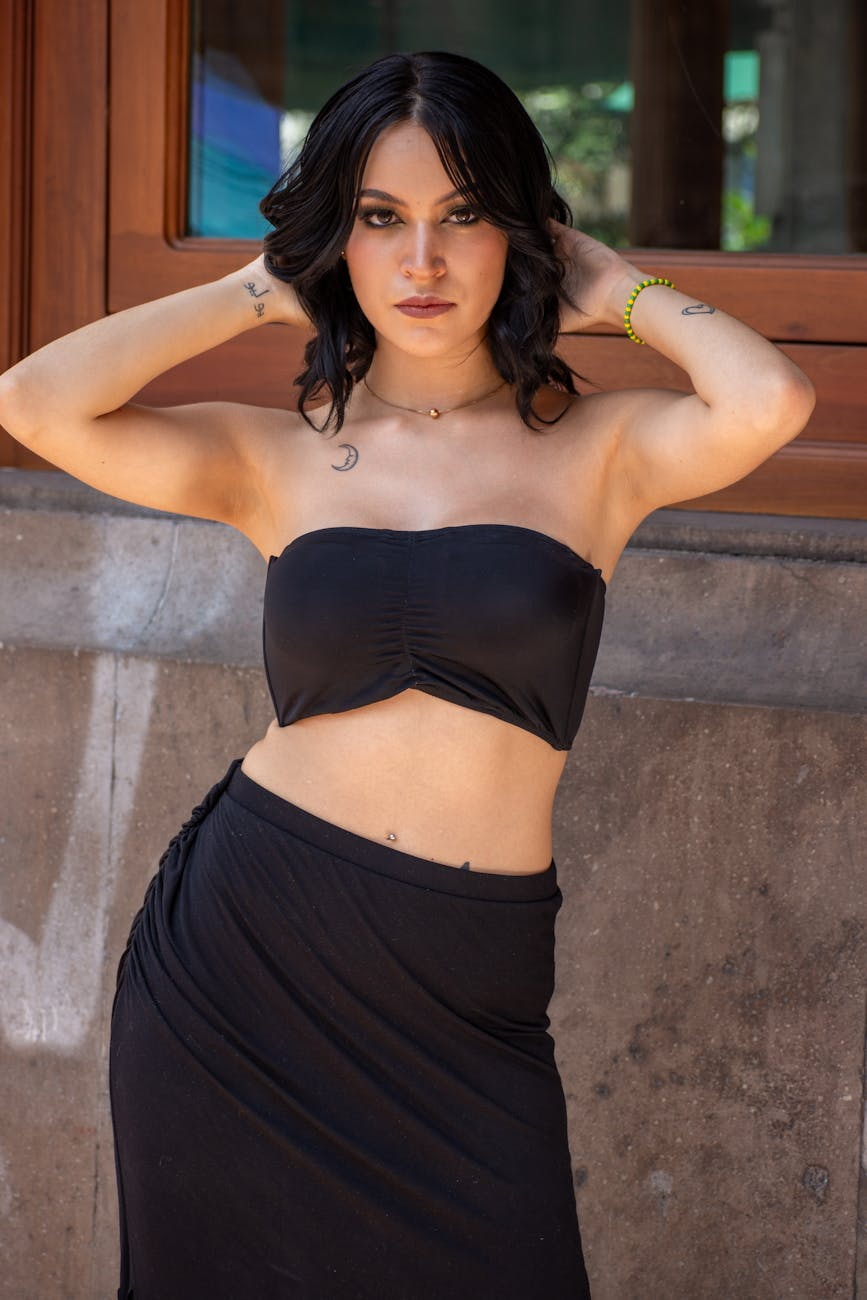crop_top: (208, 496, 647, 753)
